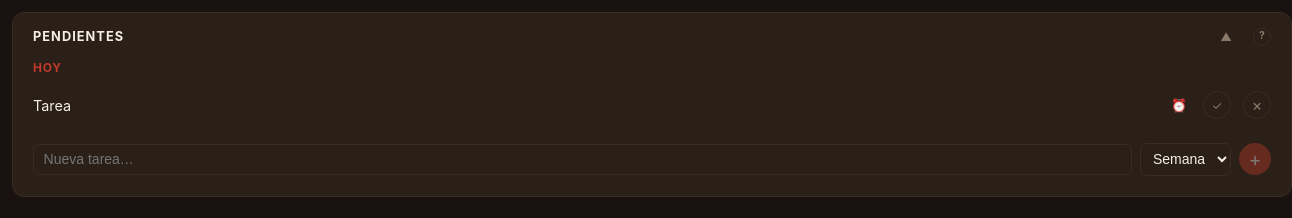
Test: TodosSection › opens reminder editor on button click
What coordinates should you click on to do the following:
click the button named "Recordatorio"
I would click on:
 (1179, 105)
Its box is [1167,98,1191,112].
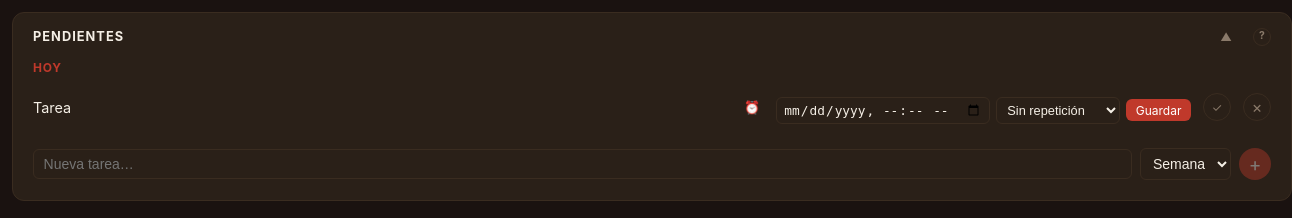
Now the field named "Hora del recordatorio" is shown, box [776,97,990,124]
Now the button "Guardar" is shown, box [1126,99,1191,121]
